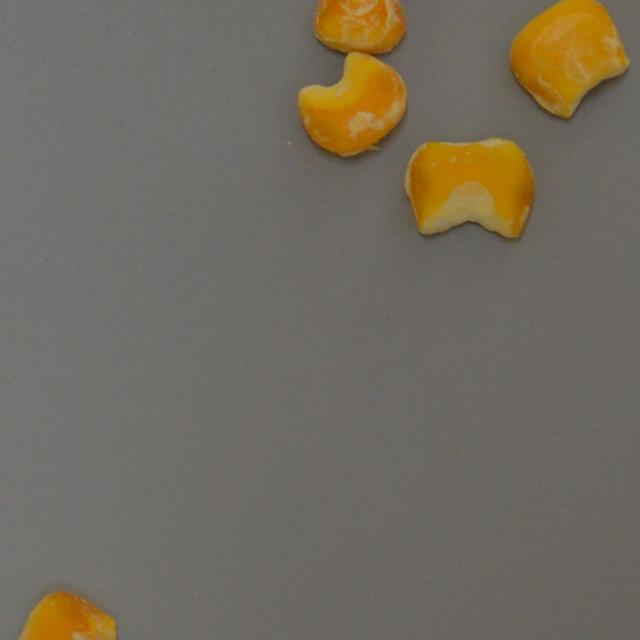dañado: (401, 134, 538, 248), (8, 586, 121, 640), (310, 0, 408, 59)
pelicula: (505, 0, 632, 126), (293, 48, 410, 166)
